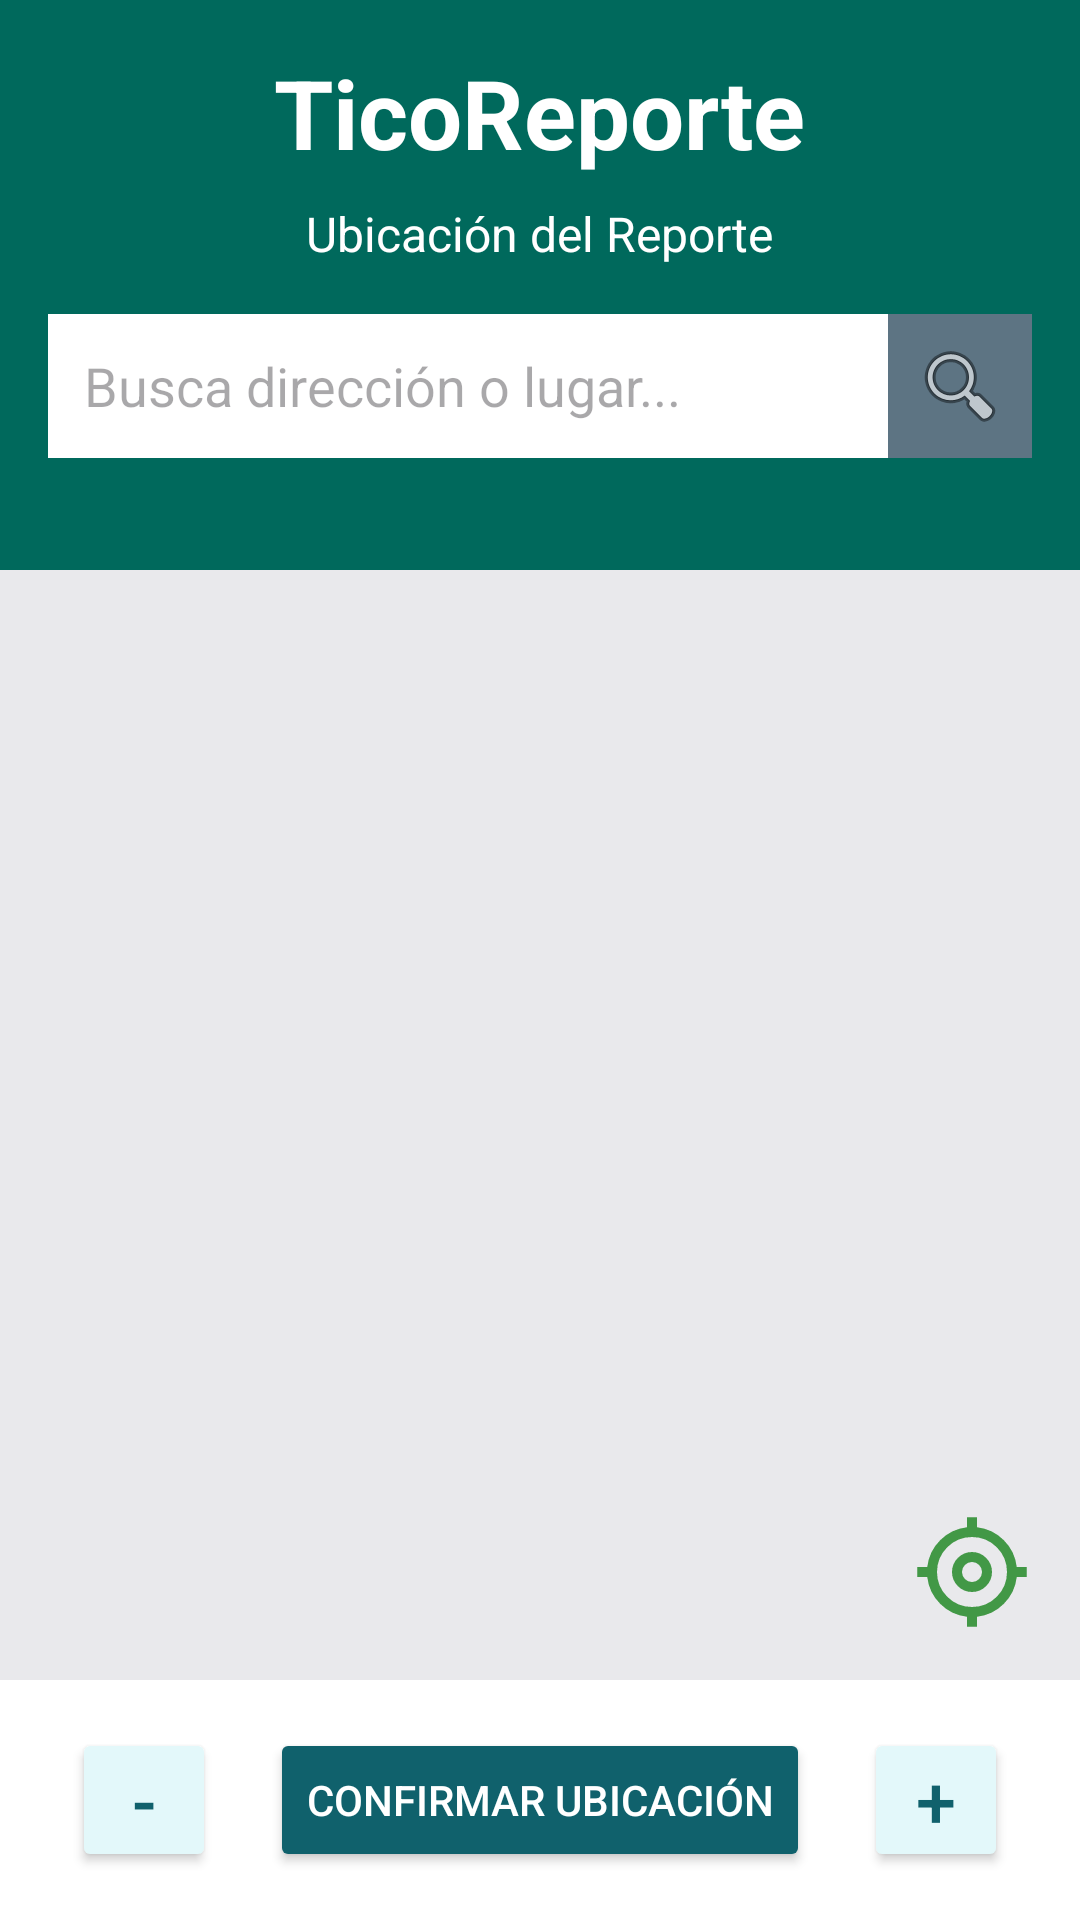

Where to tap for icons on this 1080 × 1920 app screen, as [x,y]:
location: [972,1572]
search: [960,386]
